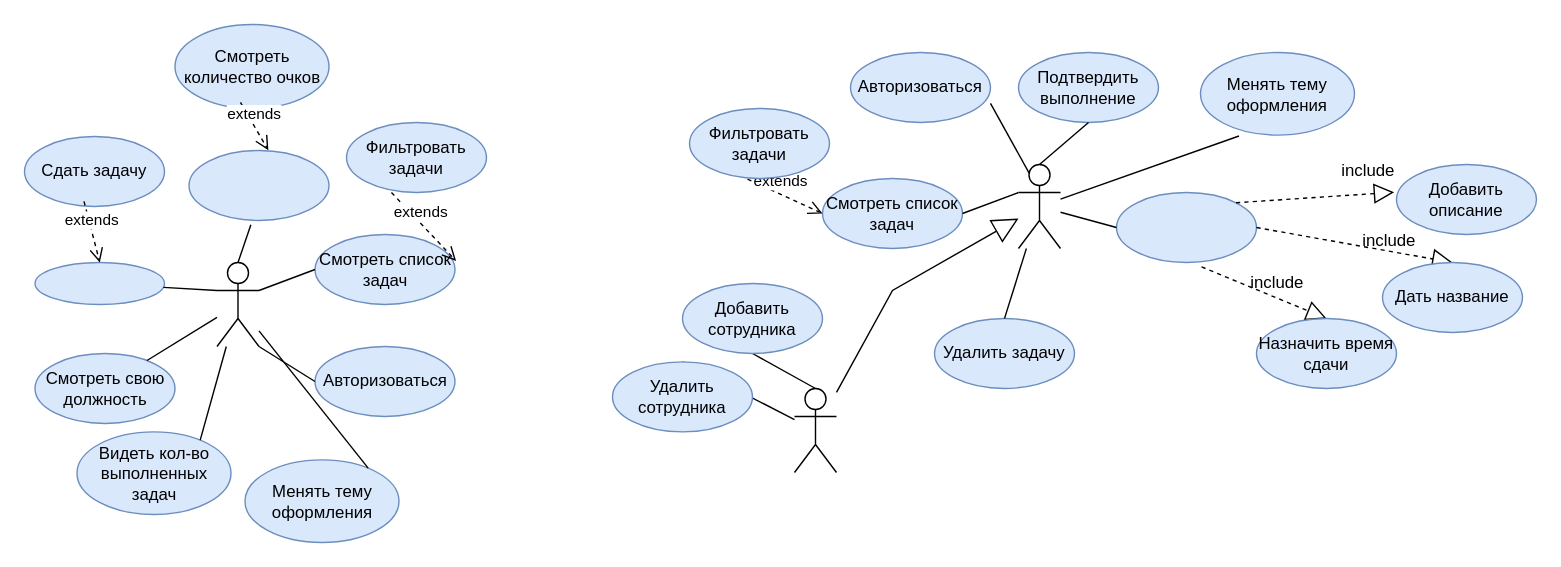
This 1561x567 diagram has some shape labels left out. The shapes that lost their labels are listed below. From the top down, each one's centre as x and y in pixels, then its label:
At (258,184): "Зарабатывать очки".
At (1038,205): "Менеджер".
At (1185,226): "Добавить задачу".
At (99,282): "Брать задачу".
At (237,303): "Работник".
At (814,429): "Админ".
